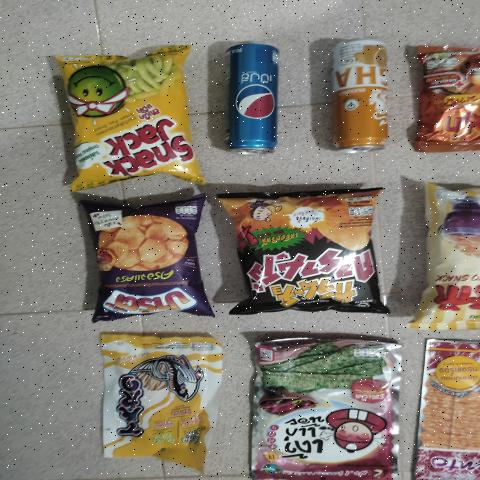karamujo: (227, 191, 381, 310)
party_purple: (89, 214, 197, 317)
pepsi_blue: (226, 38, 280, 150)
singha_yellow: (322, 31, 396, 156)
snack_jack: (64, 59, 193, 183)
taokaenoi: (257, 336, 399, 476)
taro_yellow: (97, 336, 219, 468)
